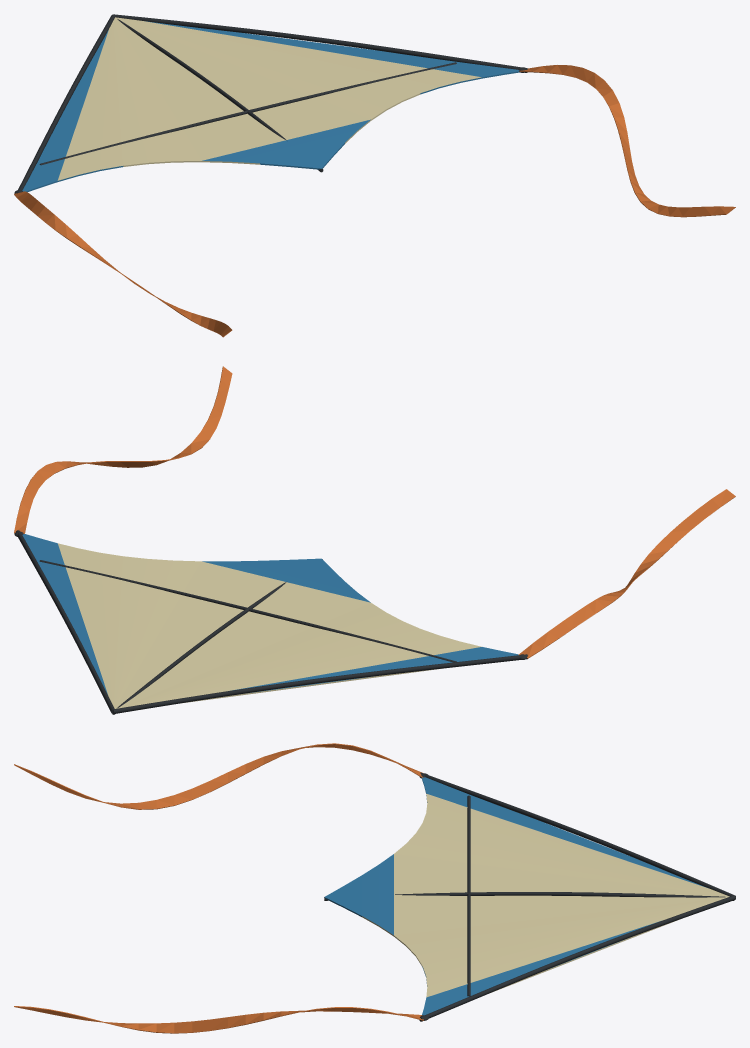
File: A-NEW-20261026-DELTA-KITE-001_LOD1_R3.fbx
3 renders of one model, top to bottom at view 1: azimuth 30°, elevation 25°; view 2: azimuth 150°, elevation 25°; view 3: azimuth 270°, elevation 25°, orthographic.
Visible parts, largest first — view 1: delta sail, cloth tip streamer.001, leading edge reinforcement.001, cloth tip streamer, transverse cross spar, leading edge reinforcement, central longitudinal spar; view 2: delta sail, cloth tip streamer, cloth tip streamer.001, leading edge reinforcement, transverse cross spar, leading edge reinforcement.001, central longitudinal spar; view 3: delta sail, cloth tip streamer, cloth tip streamer.001, leading edge reinforcement.001, leading edge reinforcement, central longitudinal spar, transverse cross spar.
Part boxes in pixels (<box>): delta sail: <box>22,17,520,192</box>; cloth tip streamer.001: <box>519,65,735,217</box>; leading edge reinforcement.001: <box>113,14,527,72</box>; cloth tip streamer: <box>14,191,232,337</box>; transverse cross spar: <box>39,62,456,165</box>; leading edge reinforcement: <box>16,14,114,193</box>; central longitudinal spar: <box>117,19,323,172</box>; delta sail: <box>22,534,518,708</box>; cloth tip streamer: <box>518,489,735,658</box>; cloth tip streamer.001: <box>14,366,232,533</box>; leading edge reinforcement: <box>113,654,527,713</box>; transverse cross spar: <box>39,560,456,662</box>; leading edge reinforcement.001: <box>16,530,114,713</box>; central longitudinal spar: <box>112,559,322,714</box>; delta sail: <box>324,777,729,1015</box>; cloth tip streamer: <box>14,743,423,809</box>; cloth tip streamer.001: <box>14,1006,423,1033</box>; leading edge reinforcement.001: <box>419,895,735,1021</box>; leading edge reinforcement: <box>420,772,735,896</box>; central longitudinal spar: <box>324,892,734,900</box>; transverse cross spar: <box>467,795,470,996</box>.
Size of the model in its own units: 132 by 10.39 by 150.
